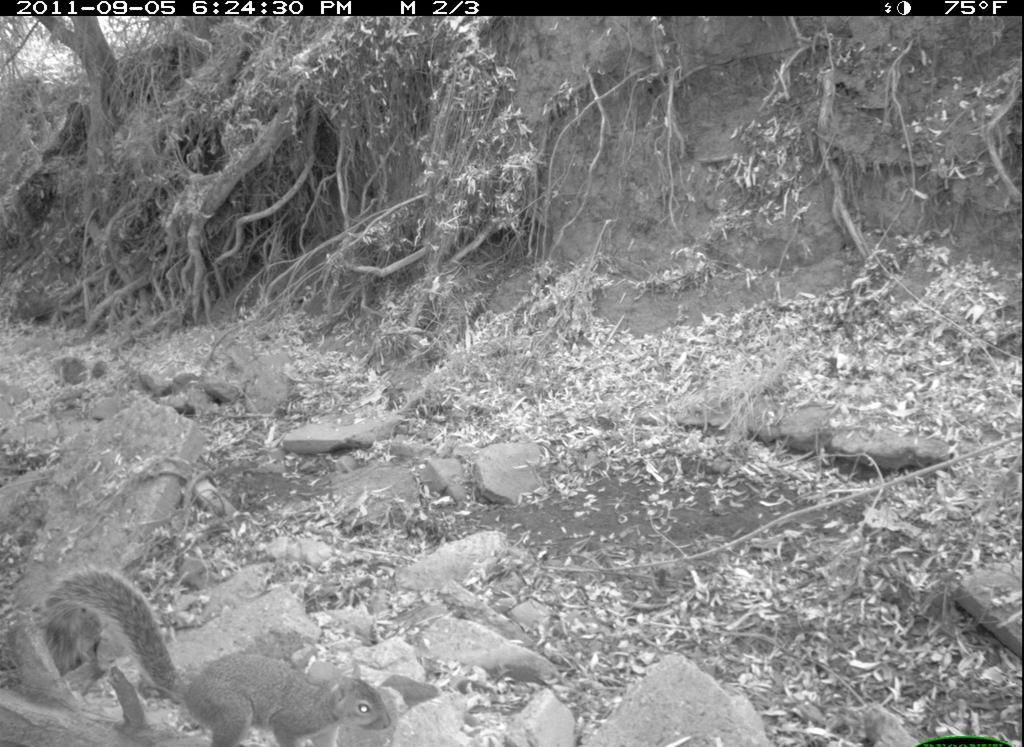squirrel: (41, 553, 399, 744)
